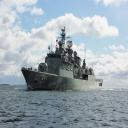Fragata: (21, 27, 105, 91)
